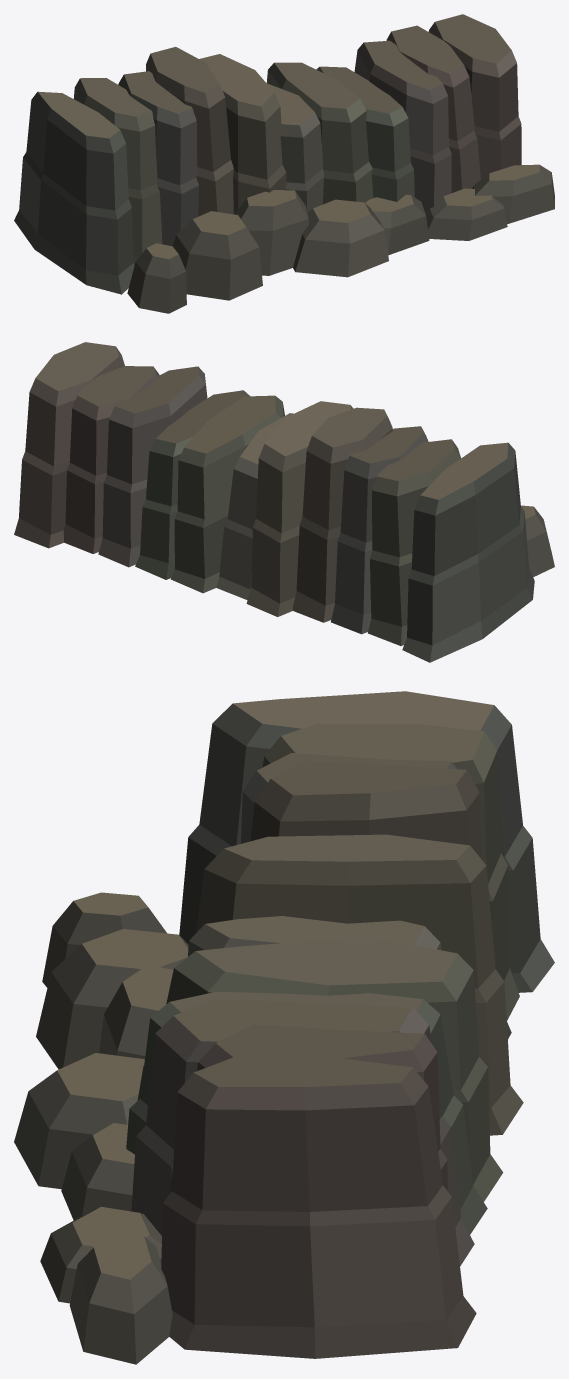
File: weathered-shelf-high.glb
3 renders of one model, top to bottom at view 1: azimuth 30°, elevation 25°; view 2: azimuth 150°, elevation 25°; view 3: azimuth 270°, elevation 25°, orthographic. The views are drawn at different scales.
Visible parts, largest first — view 1: weathered-shelf-high; view 2: weathered-shelf-high; view 3: weathered-shelf-high.
Part boxes in pixels (box(x1,y1,x2,y2)): weathered-shelf-high: box(14, 14, 554, 313); weathered-shelf-high: box(14, 342, 554, 662); weathered-shelf-high: box(14, 691, 554, 1364).
Size of the model in its own units: 22.36 by 7.66 by 12.31.
